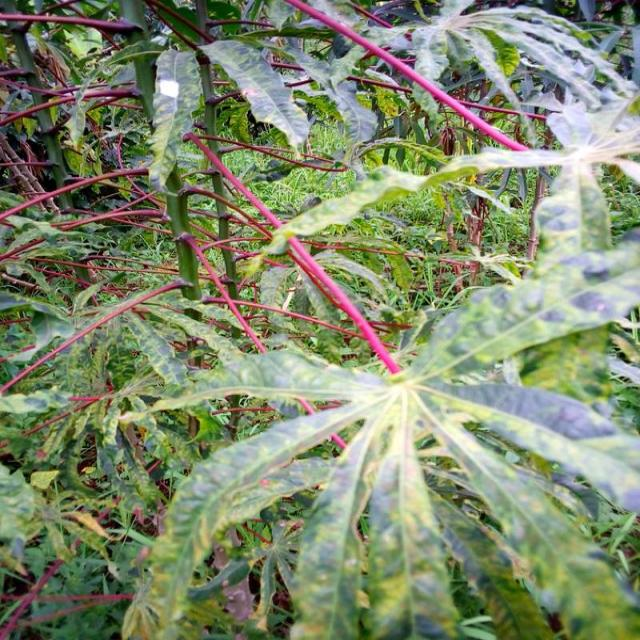cassava leaf: (3, 1, 639, 638), (147, 47, 203, 194)
